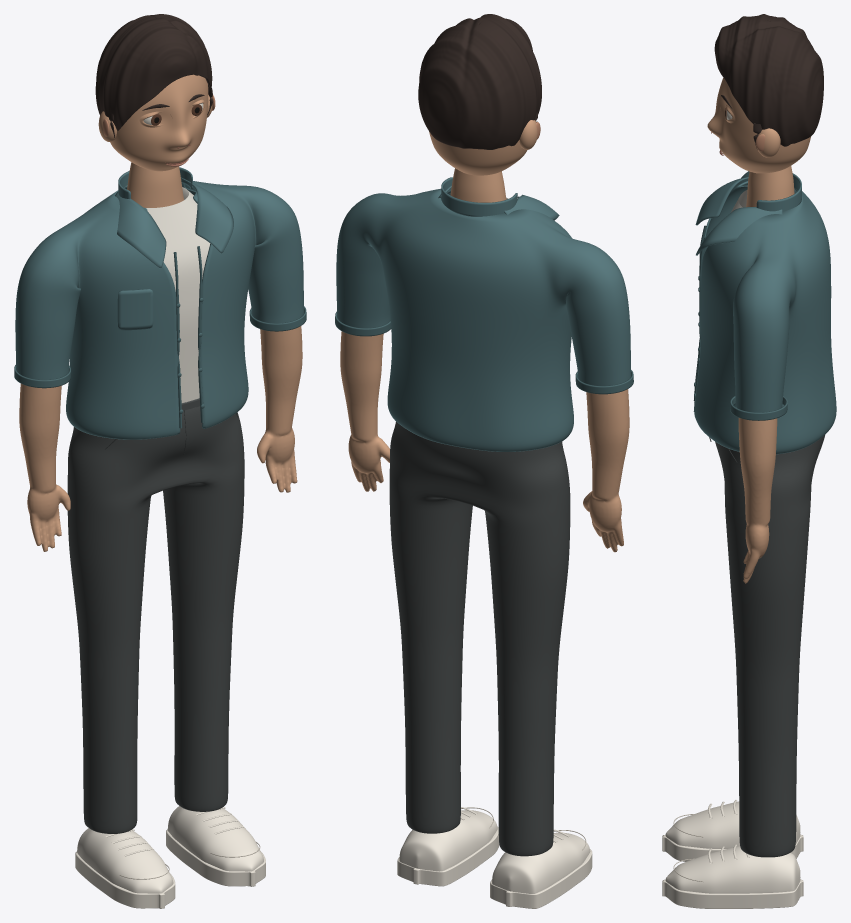
Rendered from male-base-e.glb.
3 renders of one model, left to right at view 1: azimuth 30°, elevation 25°; view 2: azimuth 150°, elevation 25°; view 3: azimuth 270°, elevation 25°, orthographic. The views are drawn at different scales.
Parts seen in each view (by area): view 1: E export 51, E export 50, E export 7, E export 22, E export 37, E export 42, E export 34, E export 46, E export 62, E export 59, E export 3, E export 47 (+3 smaller); view 2: E export 50, E export 51, E export 7, E export 34, E export 37, E export 62, E export 46, E export 22, E export 44, E export 61, E export 3, E export 36; view 3: E export 50, E export 51, E export 7, E export 46, E export 34, E export 22, E export 62, E export 61, E export 3, E export 47, E export 44, E export 59 (+3 smaller).
Part boxes in pixels (x1,y1,x2,y2): E export 51: (67,406,244,833); E export 50: (15,181,303,439); E export 7: (95,14,212,130); E export 22: (110,74,208,171); E export 37: (19,383,70,551); E export 42: (146,187,210,402); E export 34: (257,326,302,492); E export 46: (167,806,263,871); E export 62: (77,828,173,893); E export 59: (115,192,166,268); E export 3: (127,162,183,207); E export 47: (181,177,233,253); E export 50: (336,188,630,451); E export 51: (389,421,570,856); E export 7: (418,14,541,149); E export 34: (340,331,389,491); E export 37: (583,389,629,552); E export 62: (492,832,590,893); E export 46: (399,810,497,871); E export 22: (429,131,527,175); E export 44: (490,849,592,908); E export 61: (397,826,499,886); E export 3: (450,168,506,202); E export 36: (441,177,517,216); E export 50: (694,171,836,454); E export 51: (715,435,824,857); E export 7: (714,14,823,146); E export 46: (665,846,800,893); E export 34: (738,418,777,583); E export 22: (707,78,810,173); E export 62: (665,801,800,848); E export 61: (662,879,803,908); E export 3: (746,166,794,207); E export 47: (696,207,782,255); E export 44: (662,834,803,861); E export 59: (695,177,748,225).
Bounding box in the file's own units: 0.6412 × 1.81 × 0.3352.
